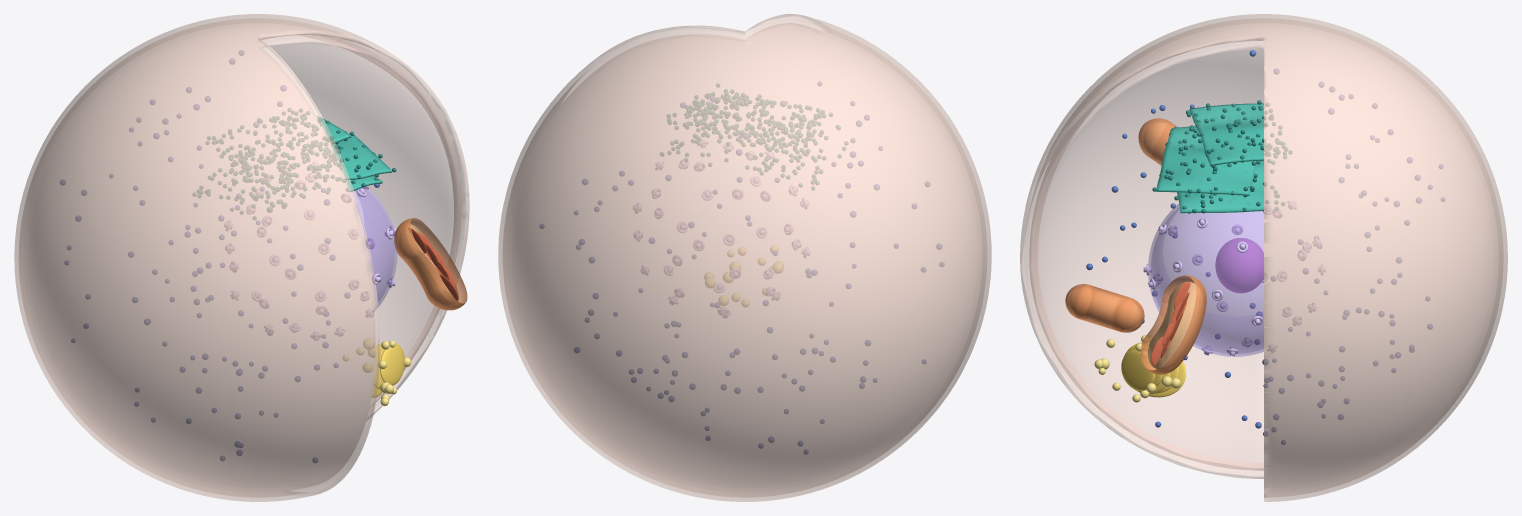
3 views of the same model, side by side, from view 1: azimuth 30°, elevation 25°; view 2: azimuth 150°, elevation 25°; view 3: azimuth 270°, elevation 25° (orthographic).
Parts seen in each view (by area): view 1: PlasmaMembrane_InnerLeaflet.001, PlasmaMembrane_OuterLeaflet.001, RER_Ribosomes.001, Mito1_OuterMembrane_cut.001, Free_Ribosomes.001, NuclearPoreComplexes.001, NuclearEnvelope.001, Mito1_Matrix_cut.001, RER_Sheet_2.001, Golgi_Cisternae.001, Golgi_Vesicles.001, Mito1_Cristae.001; view 2: PlasmaMembrane_OuterLeaflet.001, PlasmaMembrane_InnerLeaflet.001, RER_Ribosomes.001, Free_Ribosomes.001, NuclearPoreComplexes.001, Golgi_Vesicles.001; view 3: PlasmaMembrane_InnerLeaflet.001, PlasmaMembrane_OuterLeaflet.001, NuclearEnvelope.001, RER_Sheet_2.001, RER_Sheet_3.001, Free_Ribosomes.001, Mito3_OuterMembrane.001, RER_Ribosomes.001, NuclearPoreComplexes.001, Mito1_OuterMembrane_cut.001, Nucleolus.001, Mito1_Matrix_cut.001 (+6 smaller).
Boxes of the visible parts, left/top/right/bottom form: PlasmaMembrane_InnerLeaflet.001: left=24, top=24, right=461, bottom=491; PlasmaMembrane_OuterLeaflet.001: left=14, top=14, right=469, bottom=501; RER_Ribosomes.001: left=192, top=108, right=396, bottom=219; Mito1_OuterMembrane_cut.001: left=394, top=218, right=467, bottom=310; Free_Ribosomes.001: left=60, top=50, right=379, bottom=462; NuclearPoreComplexes.001: left=224, top=162, right=396, bottom=340; NuclearEnvelope.001: left=354, top=186, right=397, bottom=310; Mito1_Matrix_cut.001: left=399, top=224, right=458, bottom=304; RER_Sheet_2.001: left=331, top=135, right=391, bottom=179; Golgi_Cisternae.001: left=371, top=343, right=404, bottom=397; Golgi_Vesicles.001: left=343, top=338, right=411, bottom=406; Mito1_Cristae.001: left=407, top=227, right=458, bottom=300; PlasmaMembrane_OuterLeaflet.001: left=498, top=14, right=991, bottom=501; PlasmaMembrane_InnerLeaflet.001: left=508, top=23, right=981, bottom=491; RER_Ribosomes.001: left=660, top=83, right=848, bottom=190; Free_Ribosomes.001: left=539, top=81, right=944, bottom=454; NuclearPoreComplexes.001: left=633, top=139, right=810, bottom=317; Golgi_Vesicles.001: left=704, top=245, right=783, bottom=306; PlasmaMembrane_InnerLeaflet.001: left=1029, top=24, right=1497, bottom=491; PlasmaMembrane_OuterLeaflet.001: left=1020, top=14, right=1507, bottom=501; NuclearEnvelope.001: left=1148, top=203, right=1263, bottom=356; RER_Sheet_2.001: left=1156, top=126, right=1256, bottom=195; RER_Sheet_3.001: left=1189, top=103, right=1263, bottom=165; Free_Ribosomes.001: left=1086, top=50, right=1445, bottom=444; Mito3_OuterMembrane.001: left=1065, top=284, right=1144, bottom=332; RER_Ribosomes.001: left=1152, top=100, right=1292, bottom=213; NuclearPoreComplexes.001: left=1143, top=201, right=1325, bottom=356; Mito1_OuterMembrane_cut.001: left=1140, top=275, right=1206, bottom=374; Nucleolus.001: left=1215, top=238, right=1263, bottom=292; Mito1_Matrix_cut.001: left=1148, top=281, right=1202, bottom=369.
Bounding box in the file's own units: 20.18 × 20.18 × 20.18.
